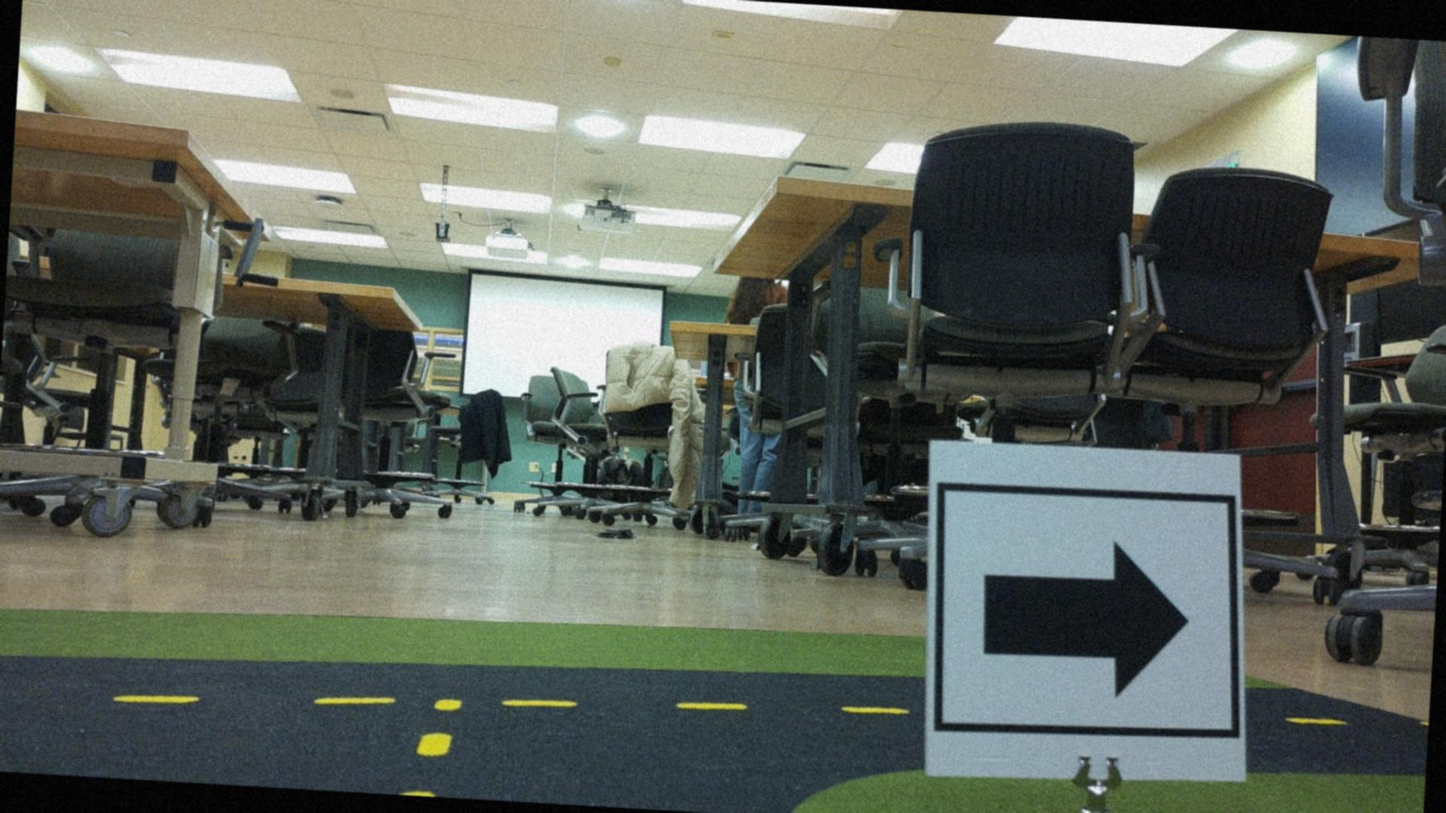turnleft: (921, 442, 1241, 779)
yellowline: (110, 659, 902, 747)
